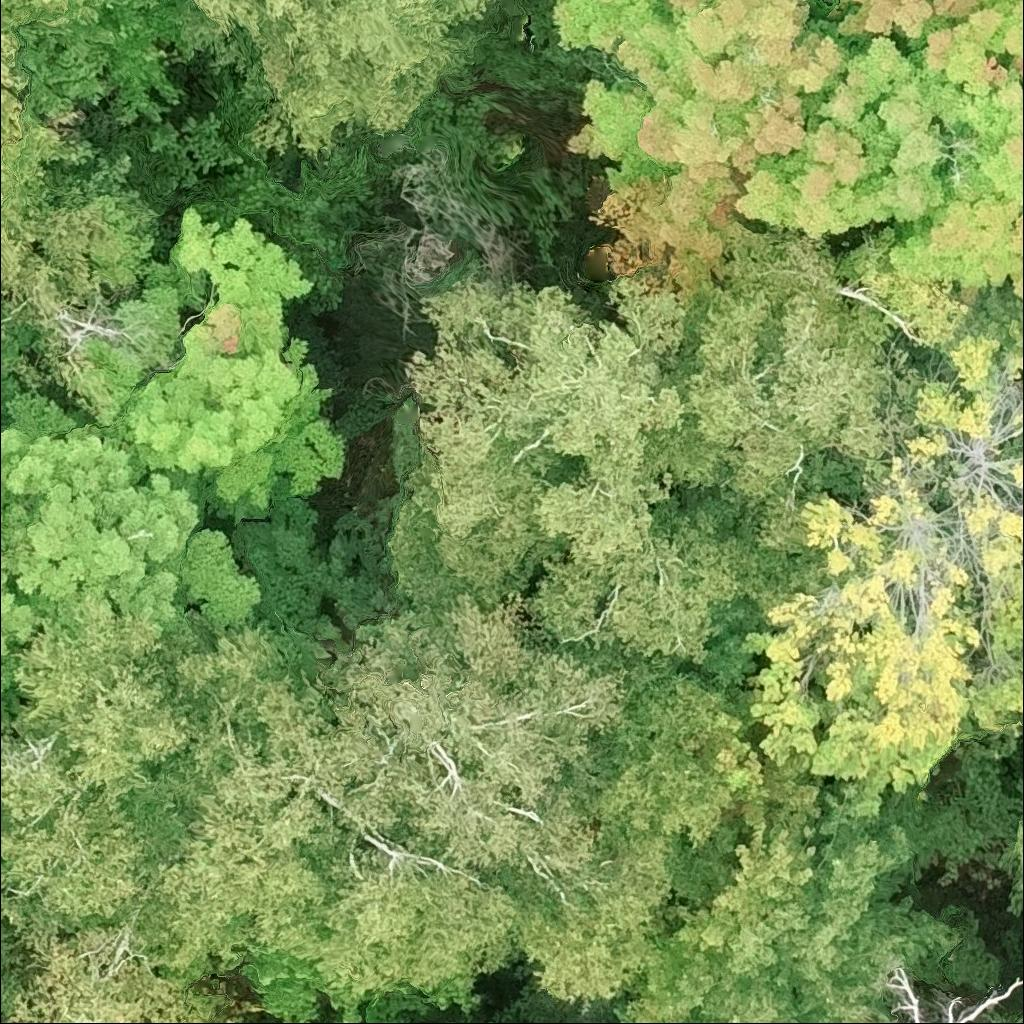crown: (125, 586, 681, 1014), (384, 271, 719, 605), (741, 428, 1023, 817), (0, 340, 267, 711), (607, 783, 1010, 1023), (544, 0, 857, 302), (732, 0, 1023, 317), (85, 199, 352, 526), (527, 435, 804, 691), (0, 587, 202, 935), (677, 230, 893, 552), (186, 0, 495, 157), (588, 666, 743, 905), (13, 0, 194, 125), (0, 917, 207, 1023), (889, 291, 1023, 438), (0, 20, 34, 299), (833, 0, 993, 36), (946, 972, 1023, 1023), (881, 965, 927, 1023), (0, 0, 75, 30), (0, 924, 20, 1013), (806, 0, 838, 24), (1009, 448, 1023, 484), (1016, 1013, 1023, 1023), (490, 1022, 492, 1023)
